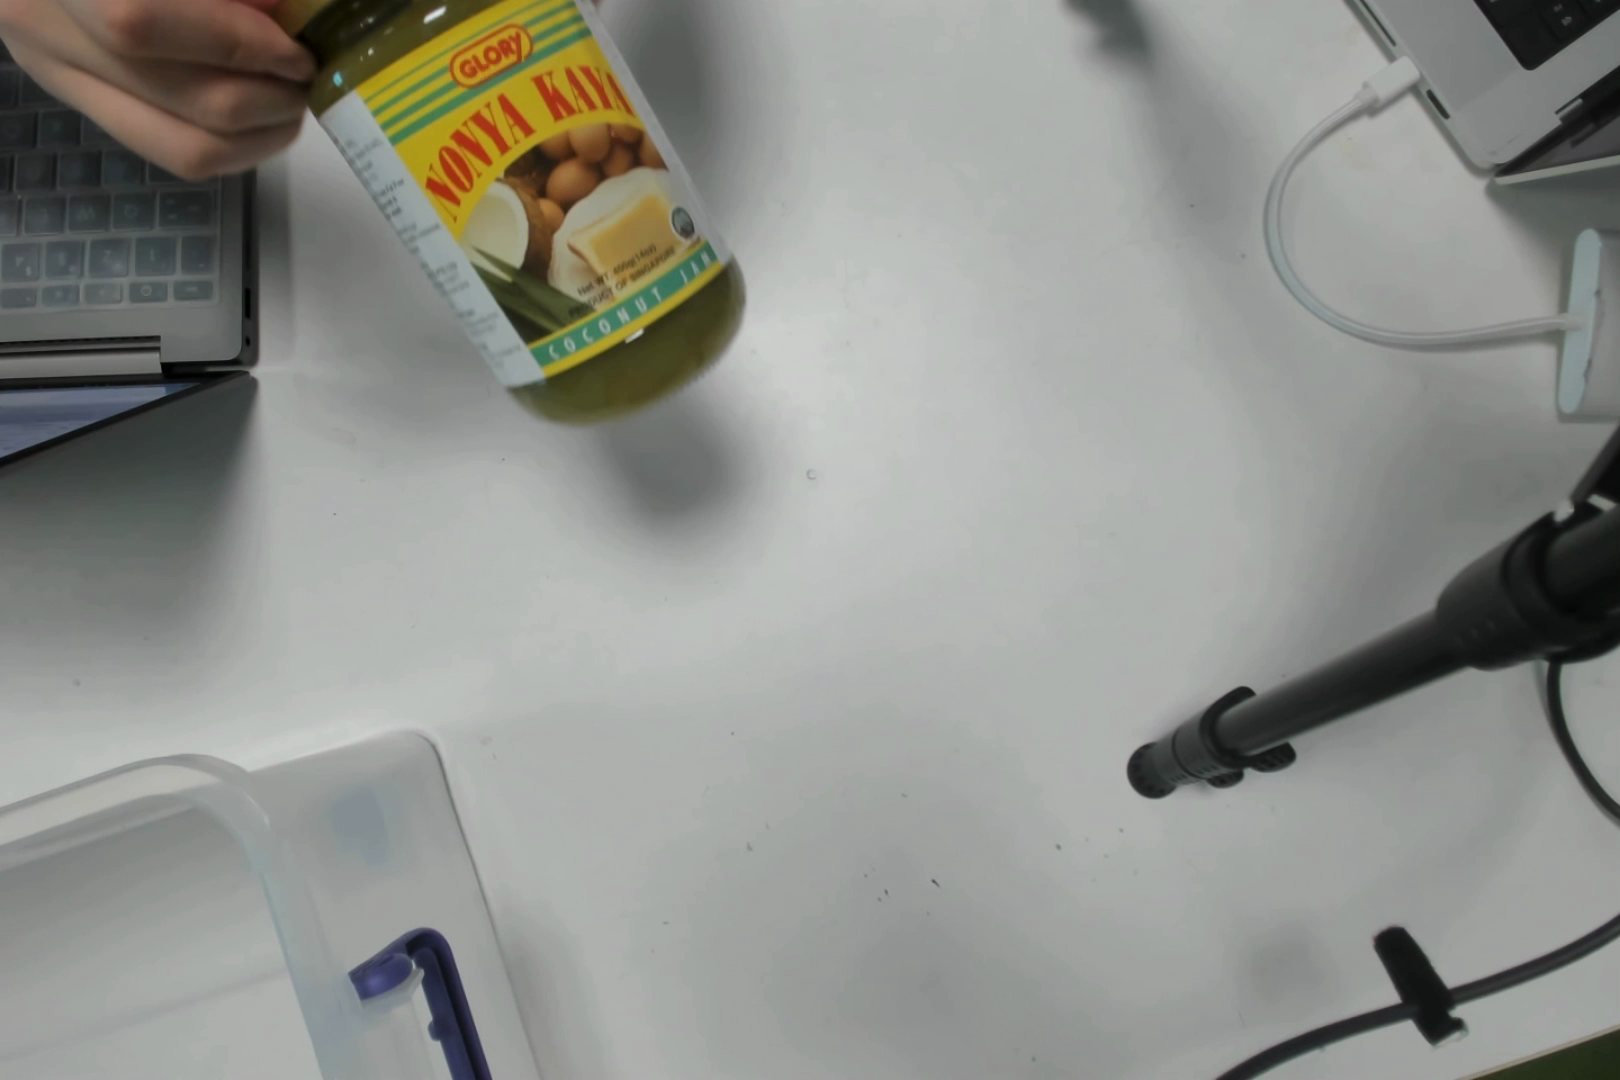Kaya_400-499g_Halal_NonHealthy: (397, 29, 740, 392)
